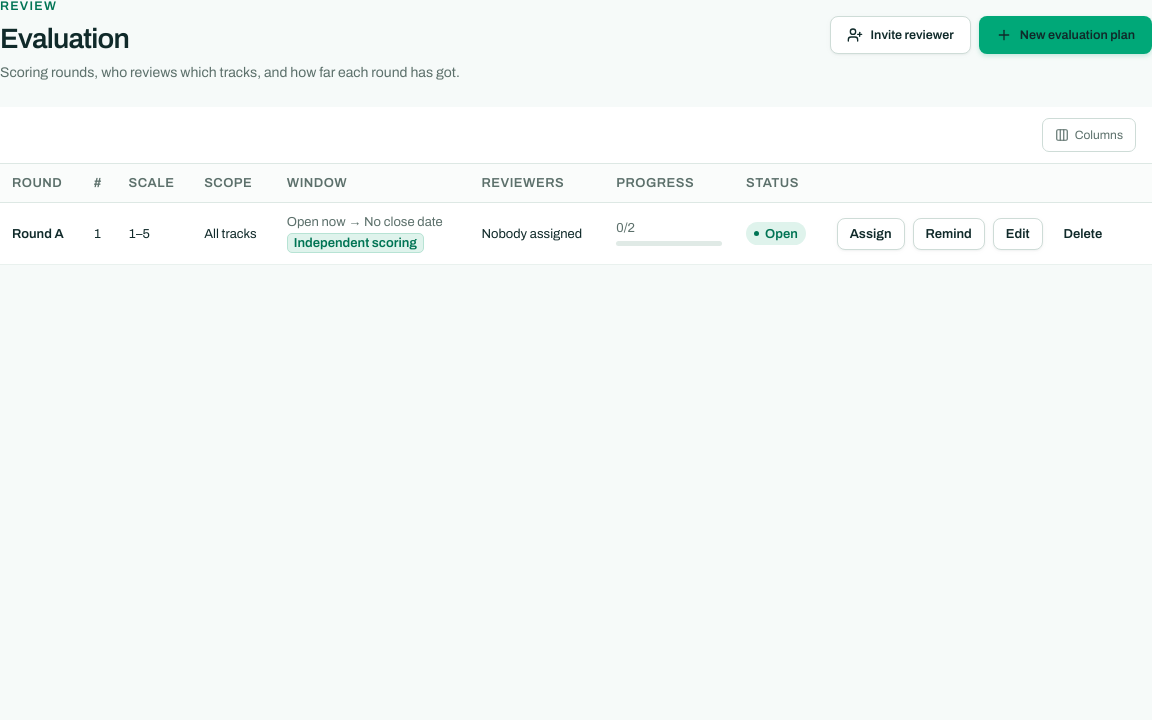
Test: evaluation reminder exact-recipient preflight › retries preview failures in place and cannot send an empty audience
Click the button "Remind": coordinates (949, 234) left=912, top=218, right=985, bottom=250
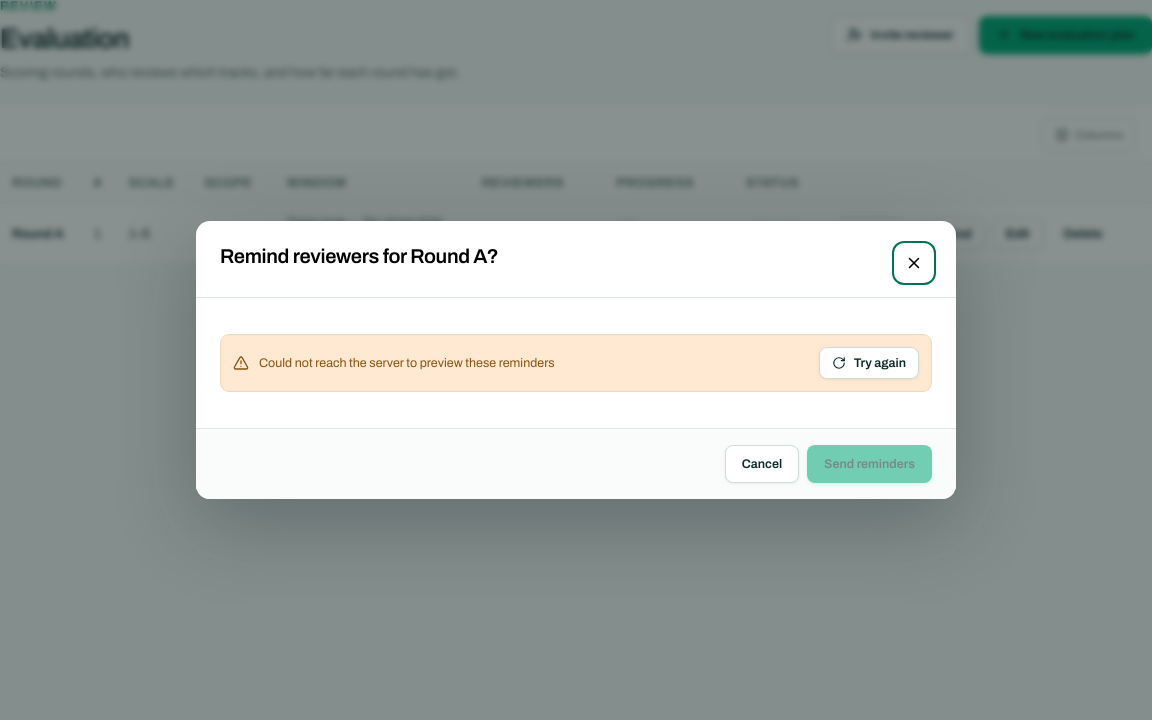
Expected: the text "Could not reach the server to preview these reminders" is shown, left=259, top=356, right=555, bottom=370
Expected: the button "Try again" is shown
Expected: the button "Send reminders" is disabled, left=807, top=445, right=932, bottom=483
Click the button "Try again": coordinates (869, 363) left=819, top=347, right=919, bottom=379
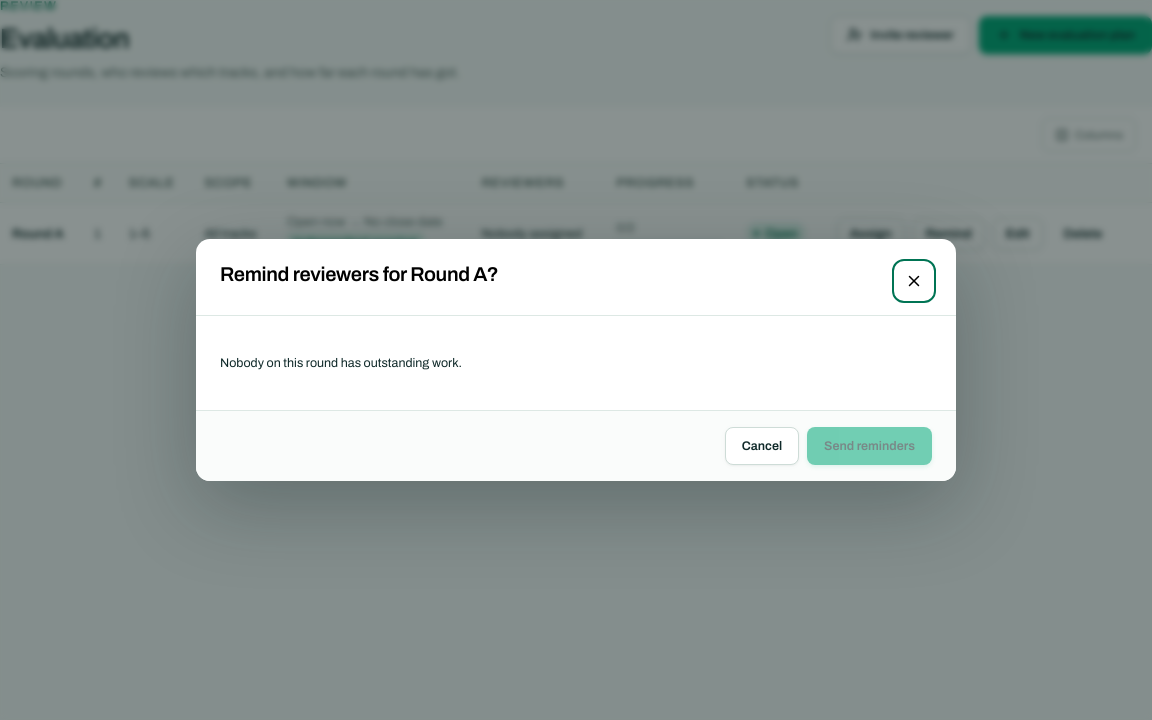
Expected: the button "Send reminders" is disabled, left=807, top=427, right=932, bottom=465
Expected: the text "Nobody on this round has outstanding work." is shown, left=220, top=356, right=462, bottom=370
